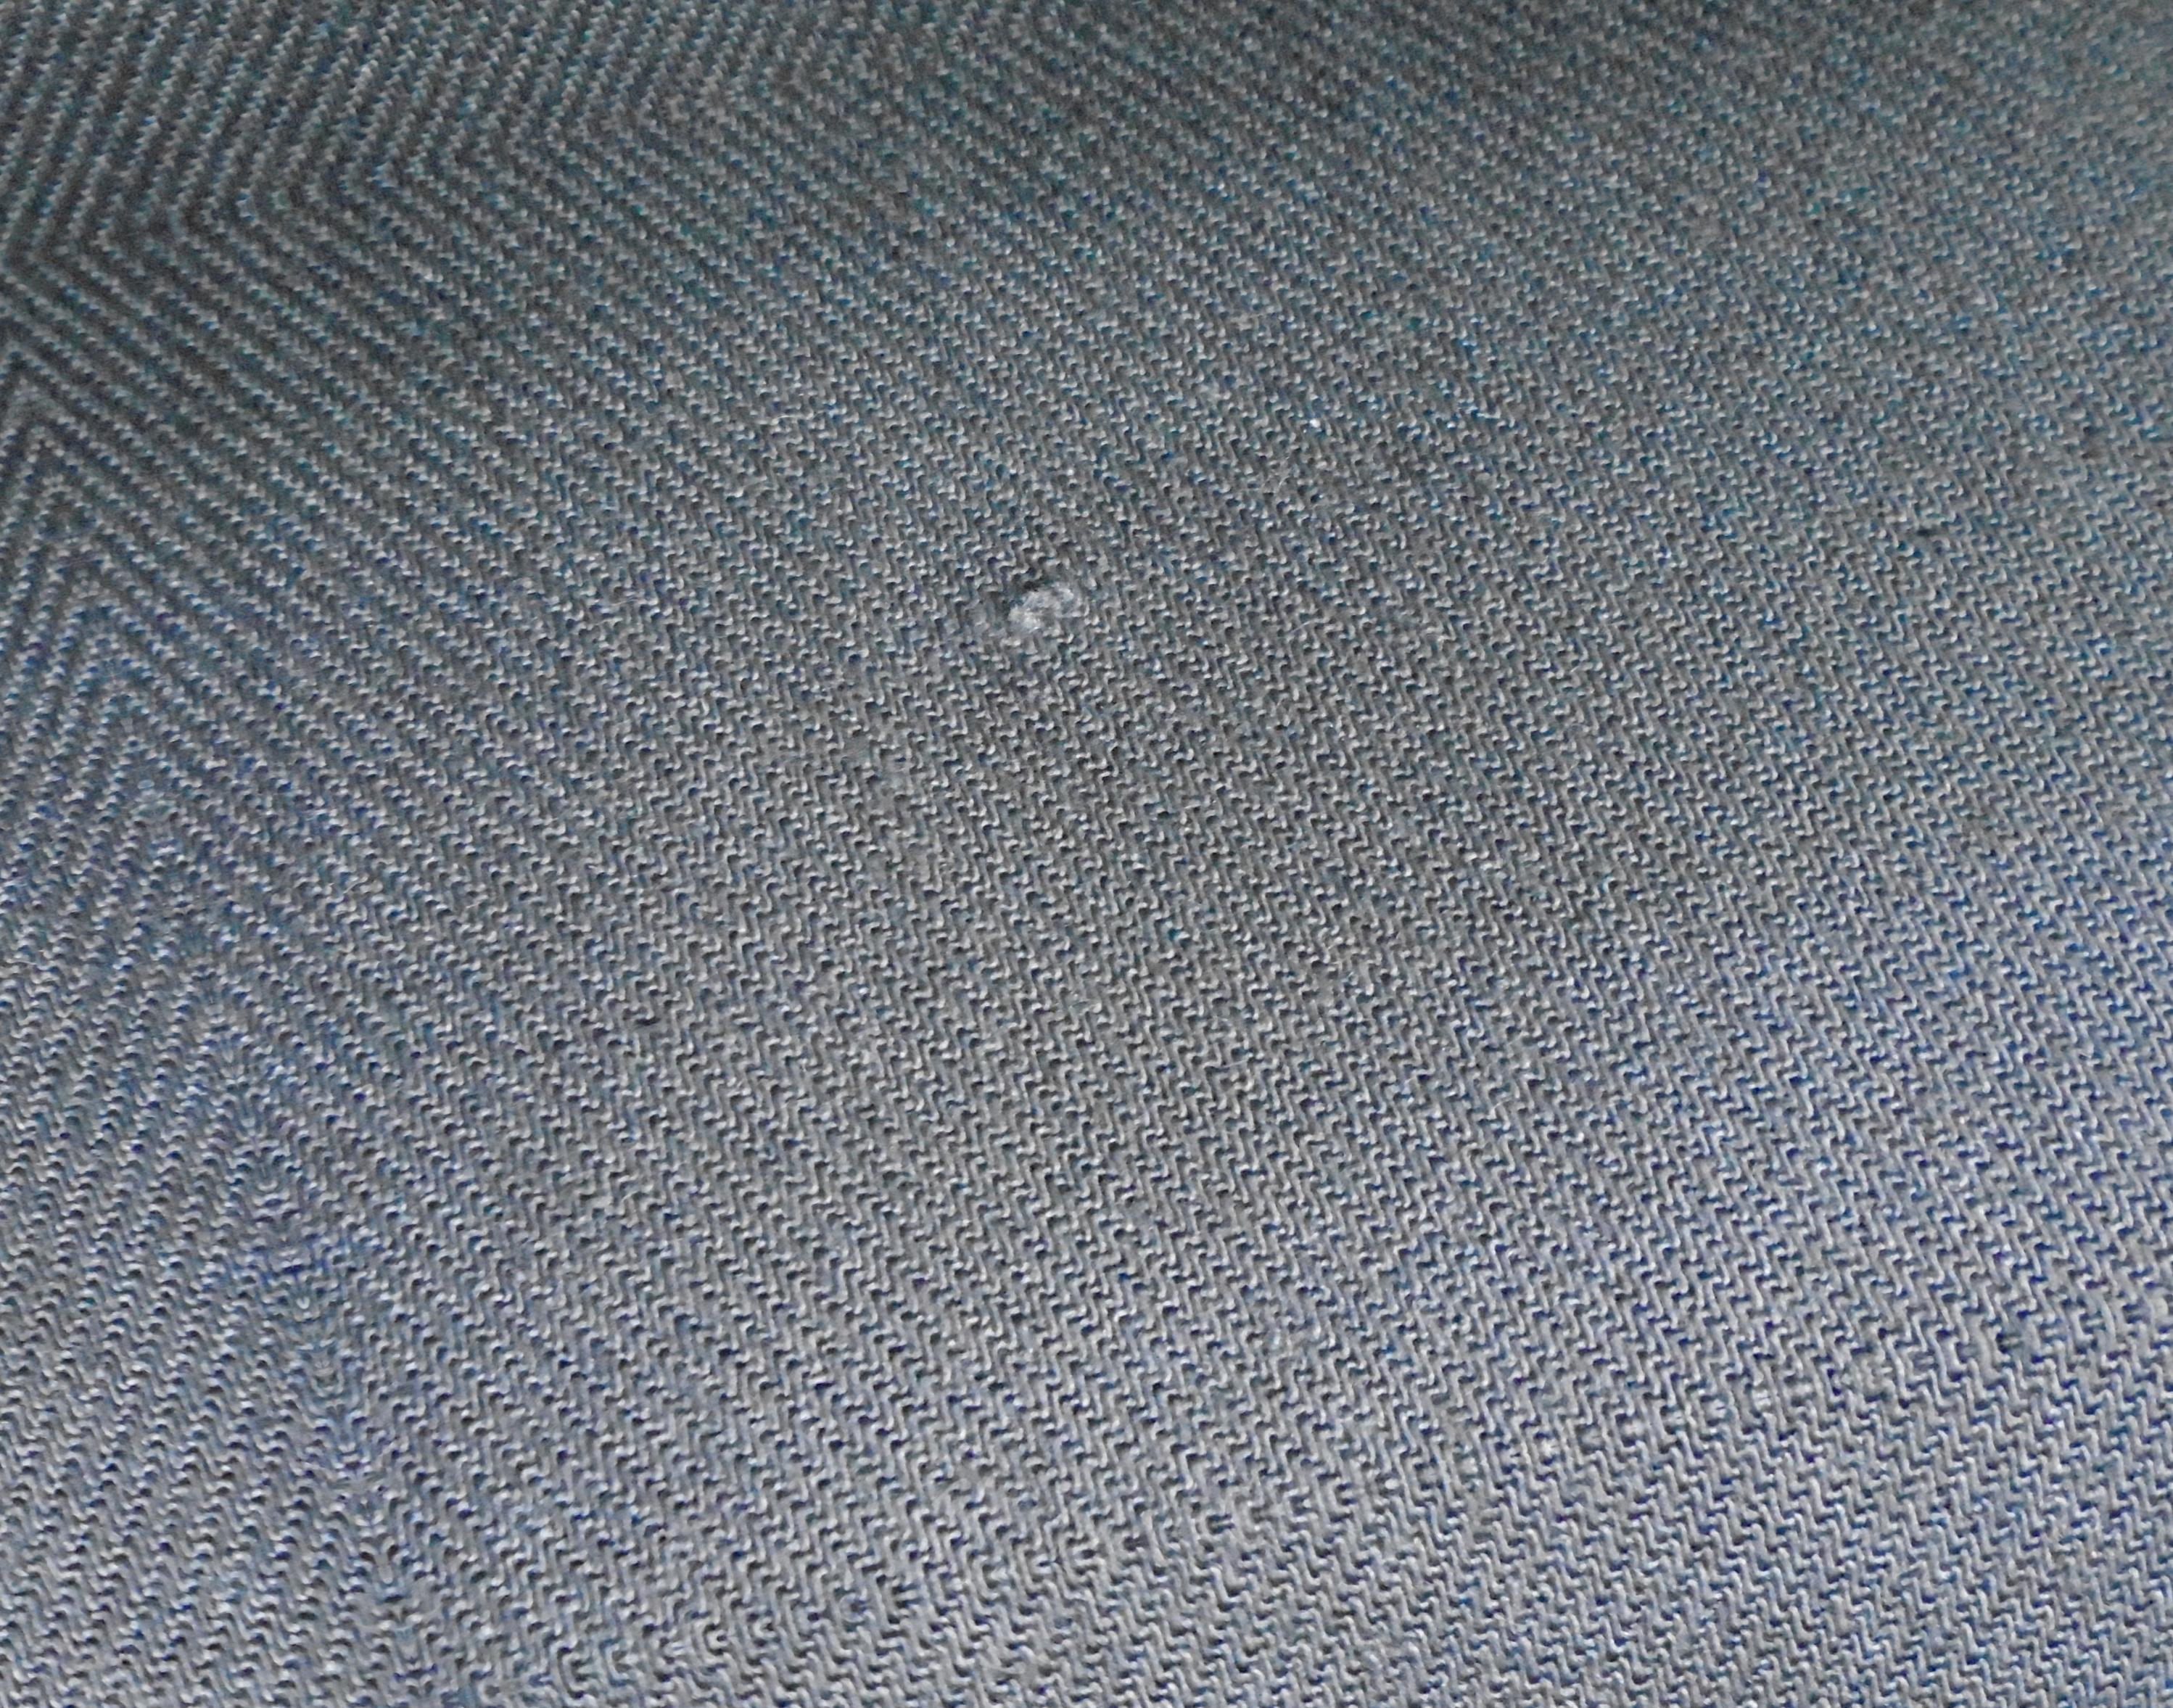knot: (956, 535, 1157, 692)
